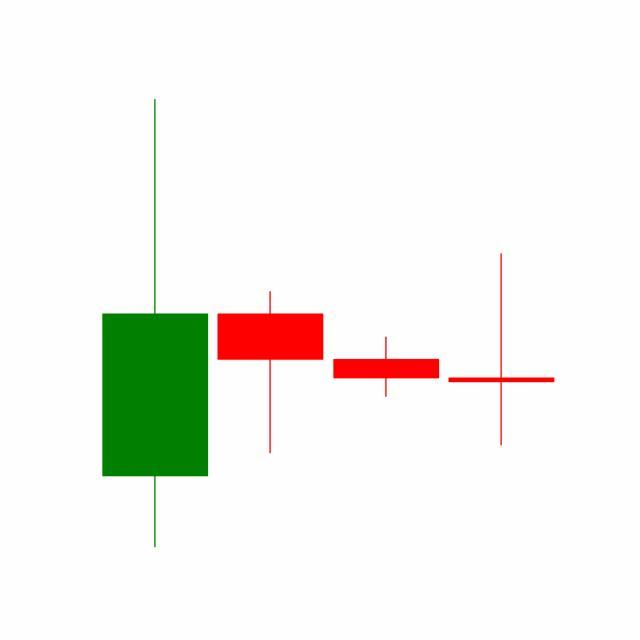Spinning Top: (329, 336, 445, 399)
